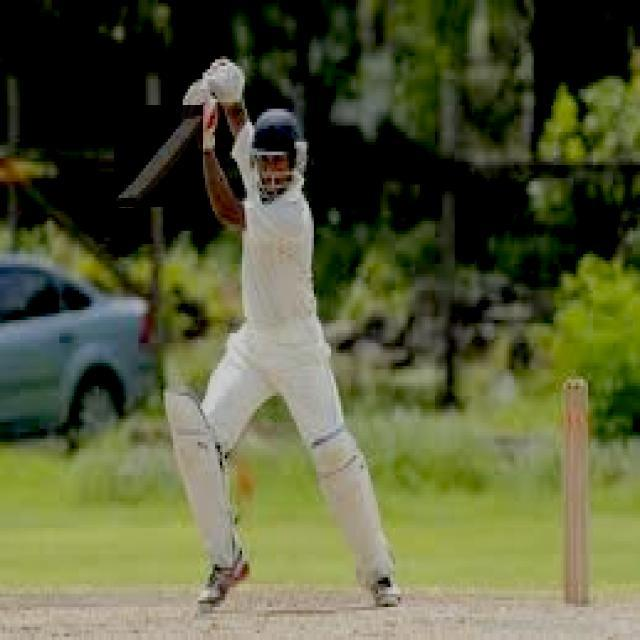bat: (114, 100, 205, 200)
toe: (117, 186, 147, 200)
